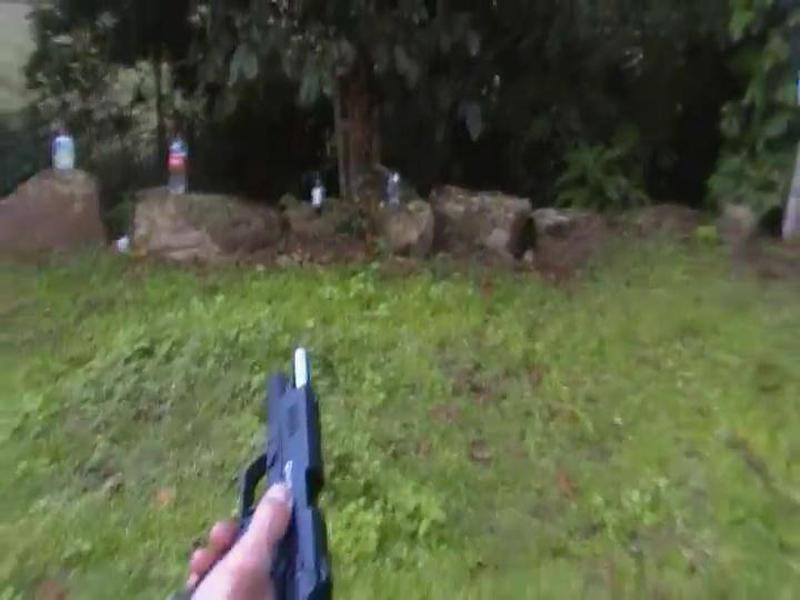Pistola: (175, 362, 346, 600)
